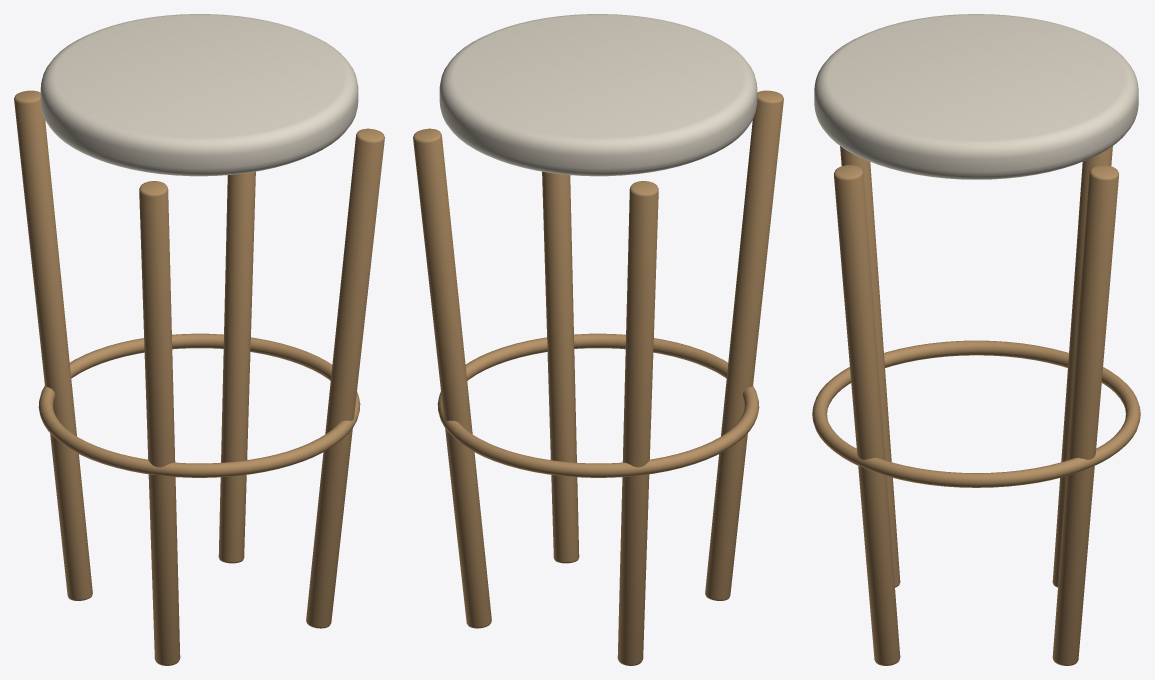
File: taburete.glb
The picture shows the model from 3 angles, left to right: view 1: azimuth 30°, elevation 25°; view 2: azimuth 150°, elevation 25°; view 3: azimuth 270°, elevation 25°; orthographic projection. The views are drawn at different scales.
Visible parts, largest first — view 1: Asiento, Pata.007, Pata.006, Pata.005, Pata.008, Aro; view 2: Asiento, Pata.008, Pata.005, Pata.006, Pata.007, Aro; view 3: Asiento, Pata.007, Pata.008, Aro, Pata.005, Pata.006.
Part boxes in pixels (x1,y1,x2,y2): Asiento: [40, 14, 358, 176]; Pata.007: [306, 128, 384, 628]; Pata.006: [14, 90, 92, 600]; Pata.005: [139, 181, 180, 665]; Pata.008: [218, 171, 255, 563]; Aro: [38, 333, 360, 477]; Asiento: [439, 14, 757, 176]; Pata.008: [413, 128, 491, 628]; Pata.005: [705, 90, 783, 600]; Pata.006: [617, 181, 658, 665]; Pata.007: [542, 171, 579, 563]; Aro: [437, 333, 759, 477]; Asiento: [814, 14, 1138, 179]; Pata.007: [834, 165, 900, 665]; Pata.008: [1052, 165, 1118, 665]; Aro: [812, 340, 1140, 487]; Pata.005: [840, 146, 900, 587]; Pata.006: [1052, 146, 1112, 587].
Size of the model in its own units: 0.3542 by 0.6496 by 0.3542.
